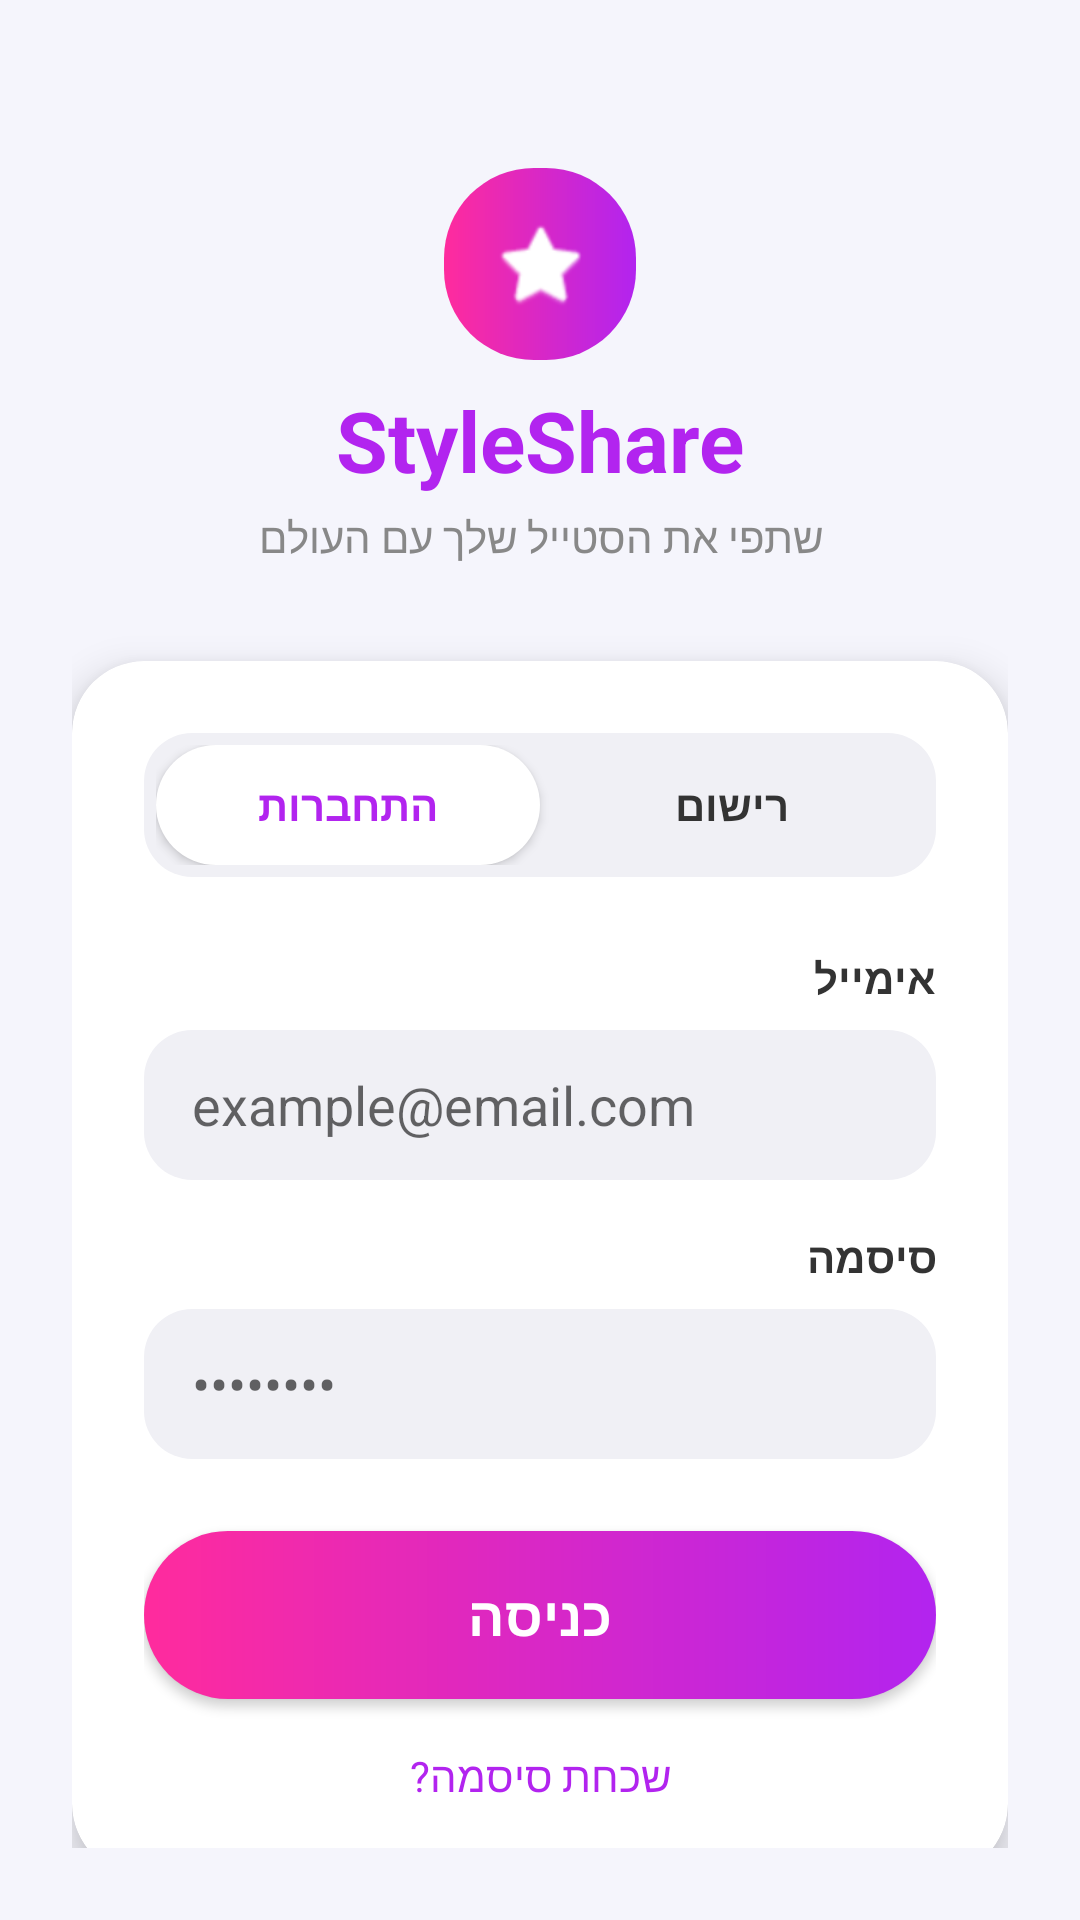

Locate icon controls on the screen. Image size 1080×1920, boxes as (left=x1, top=y1, right=x2, bottom=y2).
star on: (left=444, top=168, right=636, bottom=360)
